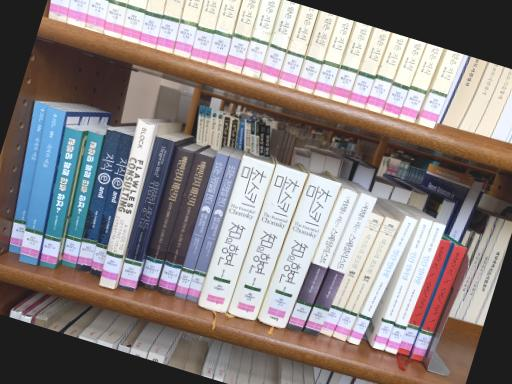book-spine: (258, 173, 341, 329), (228, 164, 306, 320), (198, 155, 275, 313), (304, 194, 376, 337), (287, 187, 357, 332), (98, 119, 156, 289), (347, 216, 417, 346), (118, 137, 174, 292), (332, 217, 399, 341), (156, 153, 214, 296), (185, 157, 241, 303), (319, 213, 384, 337), (139, 147, 195, 290), (174, 153, 228, 299), (386, 222, 445, 355), (373, 218, 432, 350), (18, 107, 65, 266), (8, 102, 52, 254), (89, 133, 134, 277), (75, 129, 120, 272), (411, 245, 465, 362), (398, 240, 451, 356), (39, 127, 81, 269), (61, 131, 103, 268)
